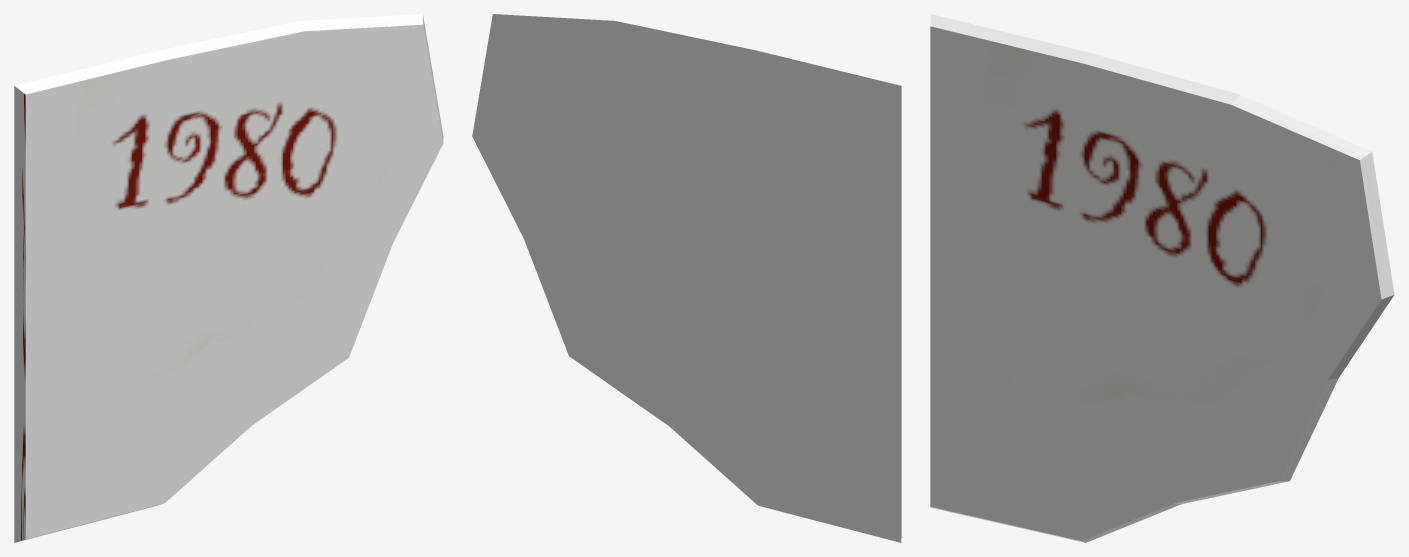
The model's file is Bookmark.fbx.
3 views of the same model, side by side, from view 1: azimuth 30°, elevation 25°; view 2: azimuth 150°, elevation 25°; view 3: azimuth 330°, elevation 25° (orthographic). The views are drawn at different scales.
Visible parts, largest first — view 1: Cube; view 2: Cube; view 3: Cube.
Boxes of the visible parts, x1,y1,x2,y2 form: Cube: [14, 14, 443, 542]; Cube: [472, 14, 901, 542]; Cube: [930, 14, 1394, 542].
Bounding box in the file's own units: 0.0613 × 0.0624 × 0.00145.
